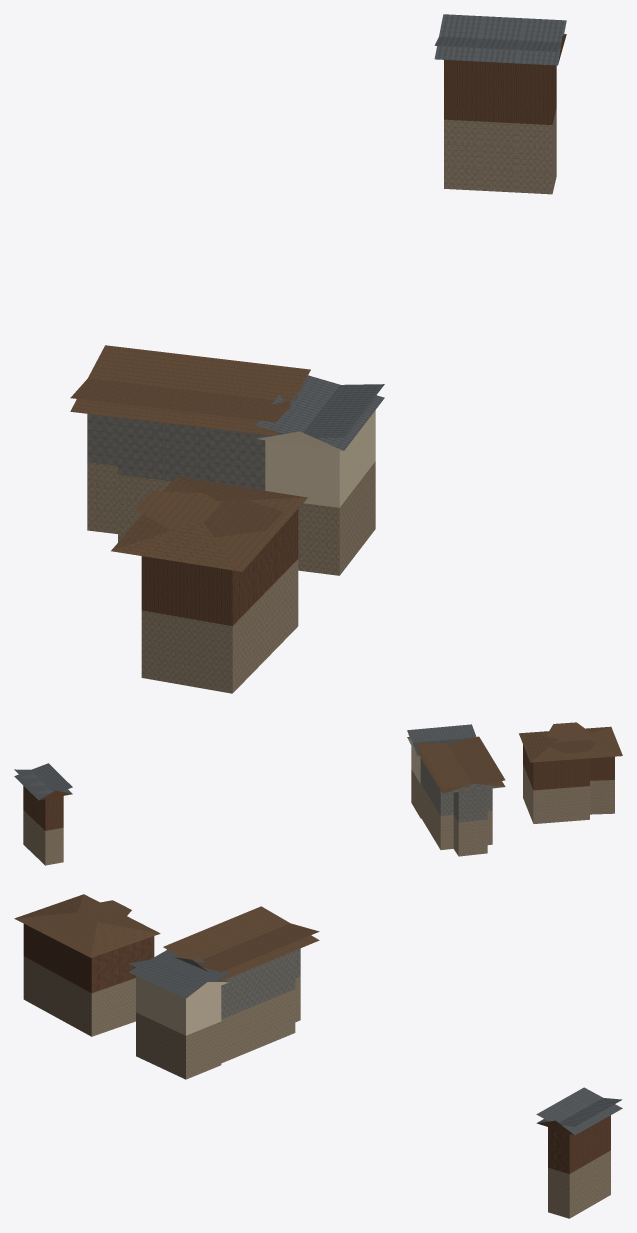
The model's file is bld_c2_16_461.gltf.
3 views of the same model, one above another, from view 1: azimuth 30°, elevation 25°; view 2: azimuth 150°, elevation 25°; view 3: azimuth 270°, elevation 25° (orthographic). The views are drawn at different scales.
Visible parts, largest first — view 1: bld_c2_16_461; view 2: bld_c2_16_461; view 3: bld_c2_16_461.
Boxes of the visible parts, bbox=[...] form: bld_c2_16_461: bbox=[70, 14, 566, 693]; bld_c2_16_461: bbox=[14, 722, 622, 865]; bld_c2_16_461: bbox=[14, 894, 622, 1218].
Bounding box in the file's own units: 64.27 × 12.8 × 62.81.
Materials: 9 (9 with a texture image).
